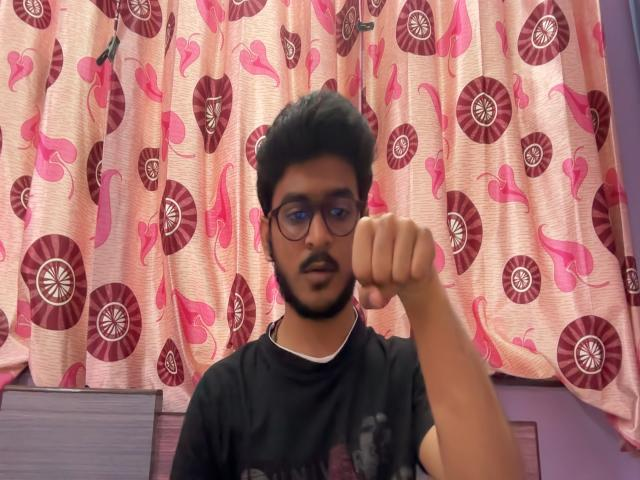Yes: (352, 205, 446, 317)
